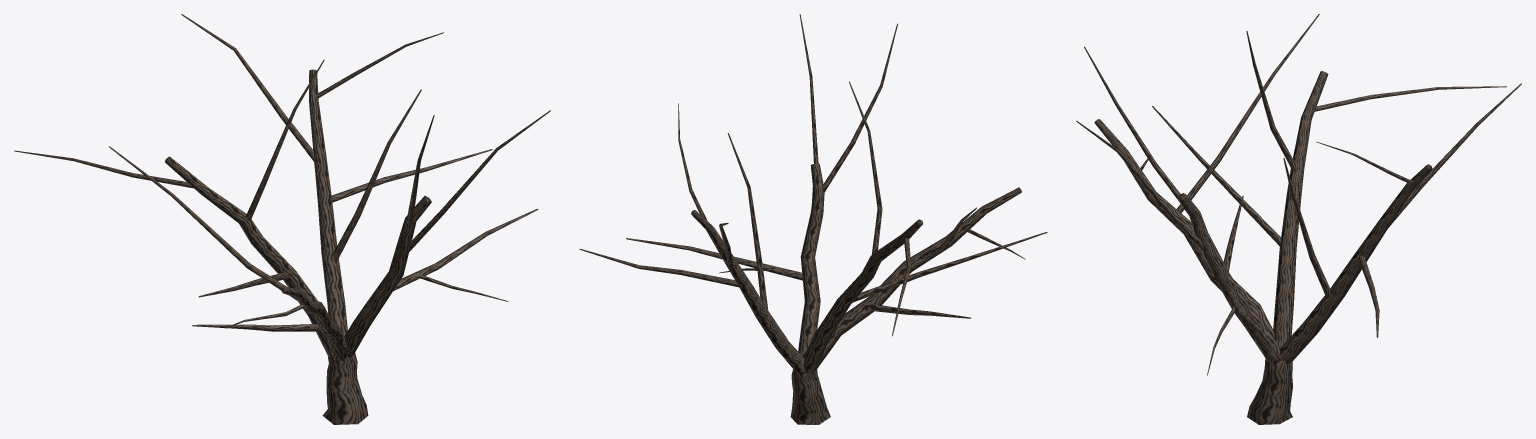
The model's file is dead_standing-a.lod1.glb.
The picture shows the model from 3 angles, left to right: view 1: azimuth 30°, elevation 25°; view 2: azimuth 150°, elevation 25°; view 3: azimuth 270°, elevation 25°; orthographic projection. The views are drawn at different scales.
Parts seen in each view (by area): view 1: bark; view 2: bark; view 3: bark.
Part boxes in pixels (bbox=[...]): bark: bbox=[14, 14, 550, 424]; bark: bbox=[579, 14, 1047, 424]; bark: bbox=[1076, 14, 1521, 424].
Bounding box in the file's own units: 9.28 × 8 × 8.74.
Materials: 1 (1 with a texture image).
